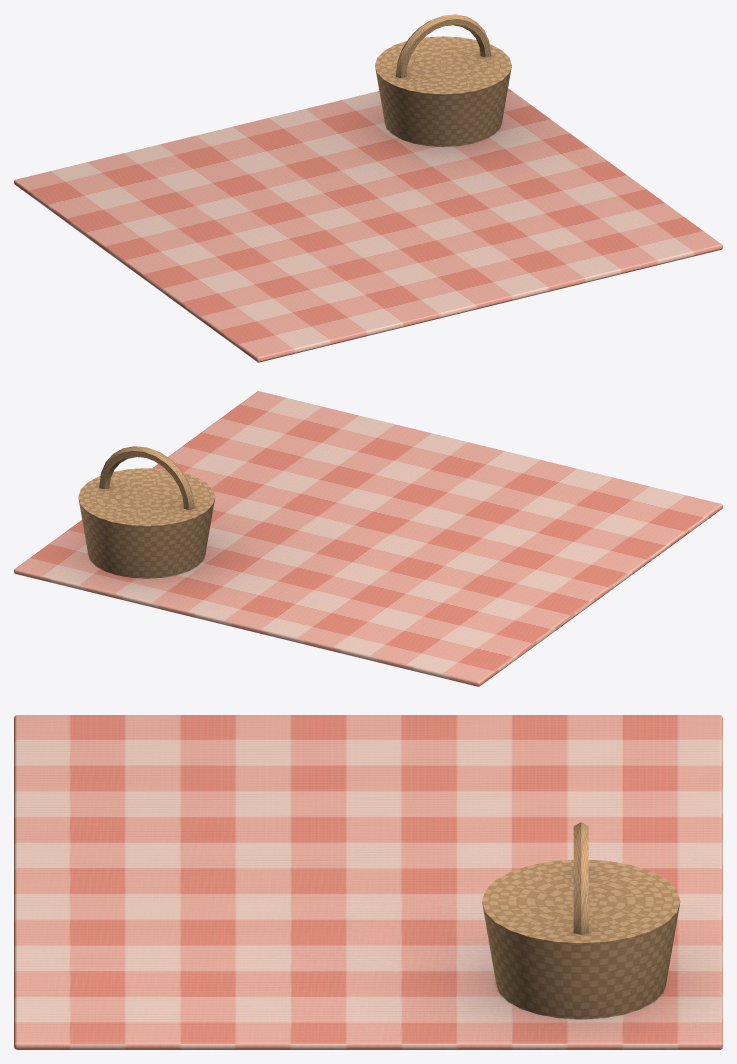
The model's file is picnic_mat.glb.
3 views of the same model, one above another, from view 1: azimuth 30°, elevation 25°; view 2: azimuth 150°, elevation 25°; view 3: azimuth 270°, elevation 25° (orthographic). The views are drawn at different scales.
Visible parts, largest first — view 1: picnic_mat; view 2: picnic_mat; view 3: picnic_mat.
Boxes of the visible parts, box(x1,y1,x2,y2) form: picnic_mat: box(14, 14, 722, 362); picnic_mat: box(14, 391, 722, 686); picnic_mat: box(14, 715, 722, 1049).
Size of the model in its own units: 1.1 by 0.252 by 1.
1 material, 1 textured.
